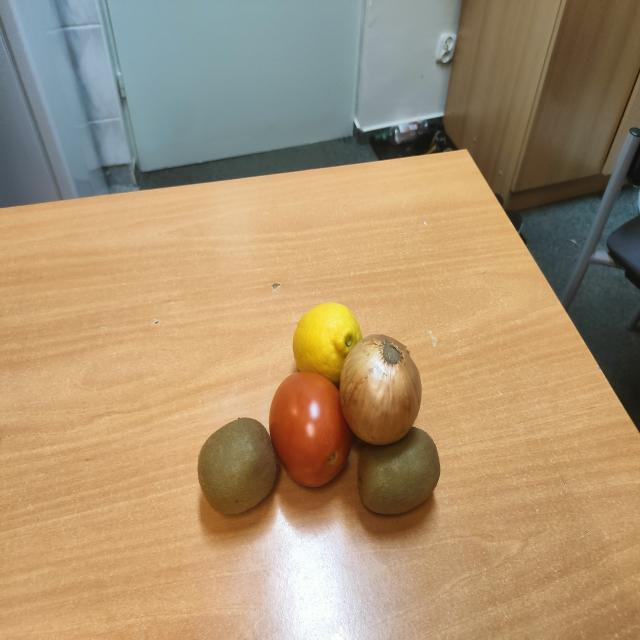kiwi: (198, 418, 276, 513), (358, 427, 440, 513)
lemon: (292, 303, 362, 385)
orange: (340, 335, 421, 445)
tomato: (269, 372, 352, 487)
